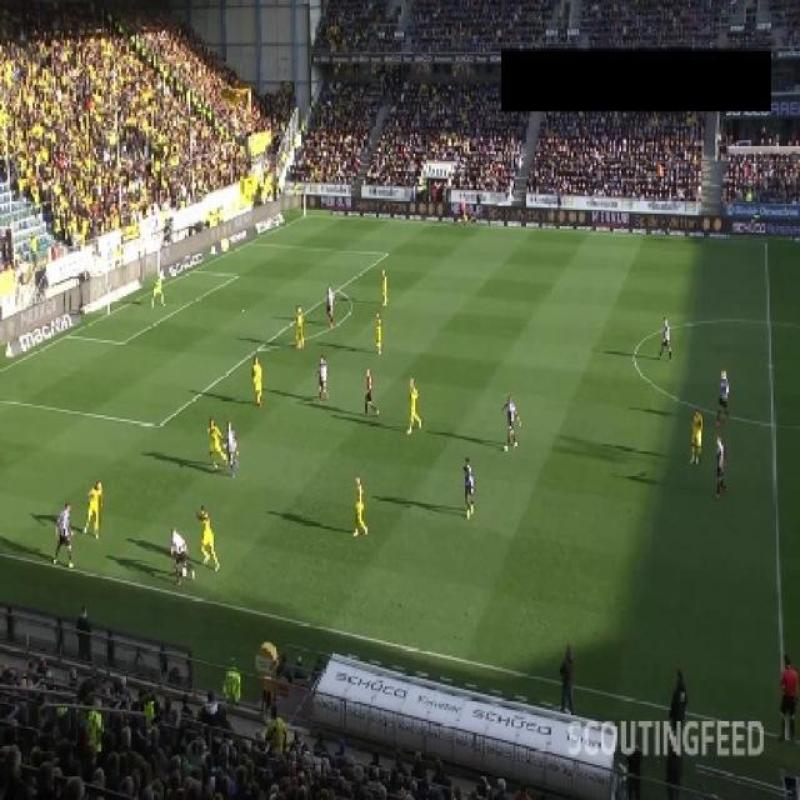1: (294, 206, 314, 222)
10: (327, 280, 345, 299)
11: (250, 334, 270, 356)
12: (146, 409, 168, 437)
13: (758, 231, 778, 252)
14: (756, 304, 784, 335)
15: (759, 406, 787, 440)
2: (242, 233, 260, 250)
3: (182, 258, 202, 277)
4: (58, 324, 78, 344)
7: (230, 264, 249, 282)
8: (109, 328, 133, 354)
9: (376, 242, 394, 262)
c: (622, 342, 646, 366)
